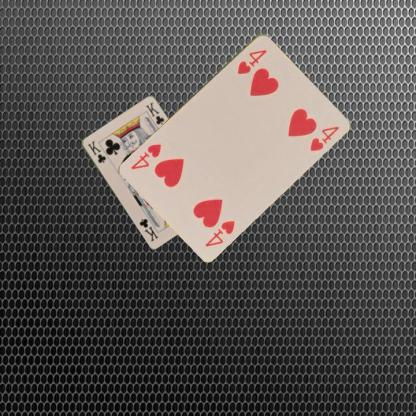4h: (202, 217, 236, 248), (235, 46, 268, 75)
Kc: (85, 138, 107, 164)
